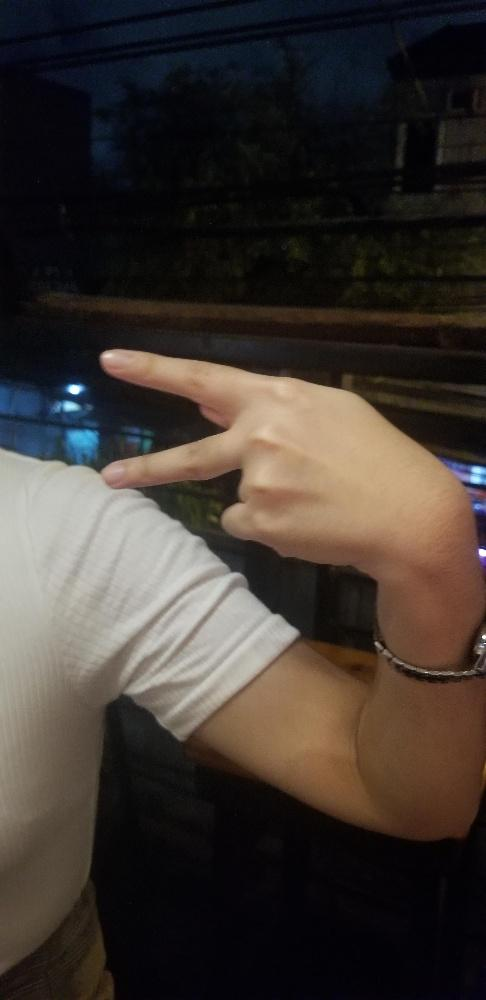k: (98, 345, 425, 571)
